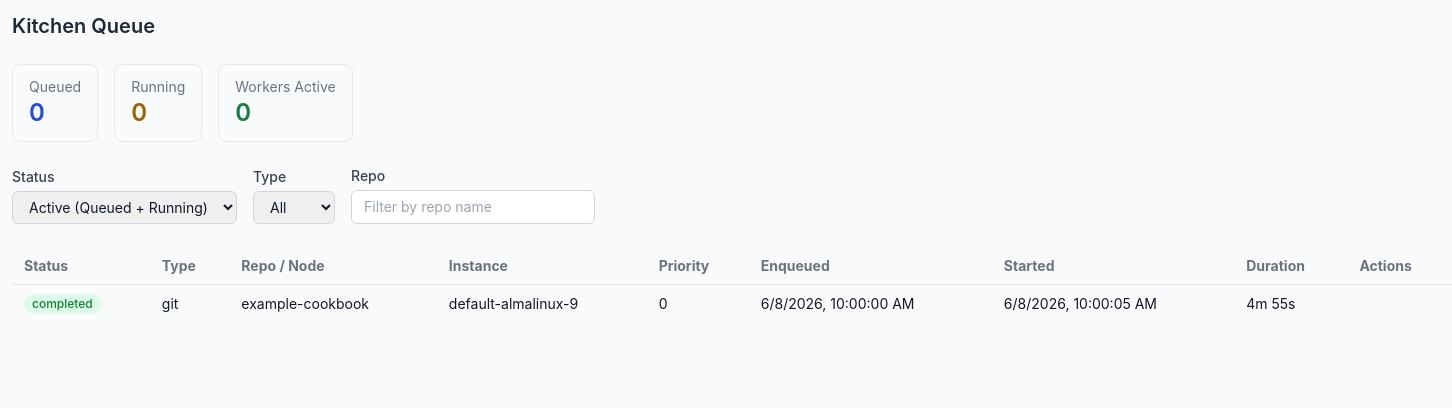
Test: KitchenQueuePage — completed-job output › lazy-fetches the item detail on expand and shows its output
Click the text "example-cookbook" at coordinates (333, 303), box [229,284,437,322]
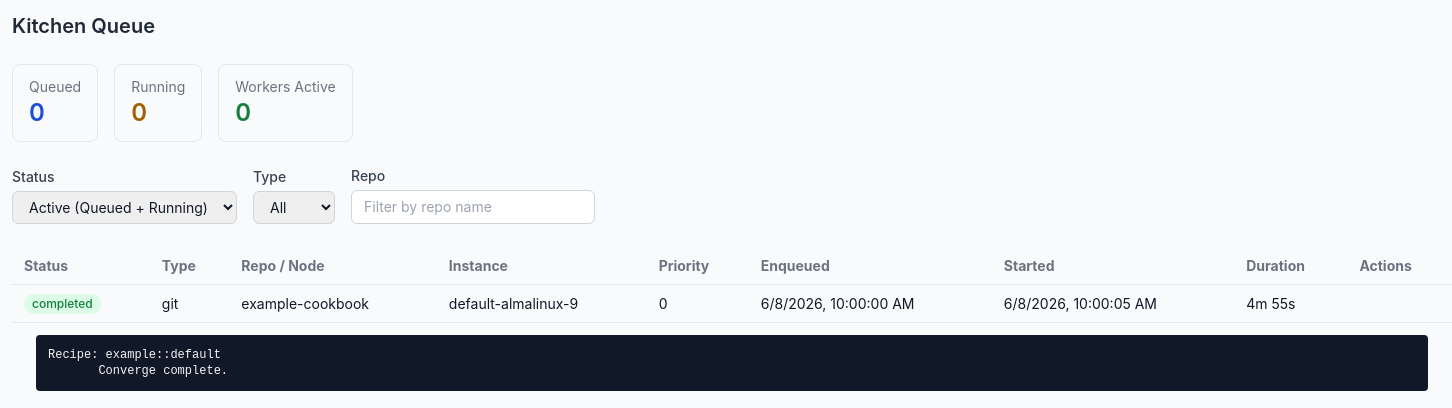
Check: the text "Recipe: example::default Converge complete." is shown, box [36,335,1428,391]
